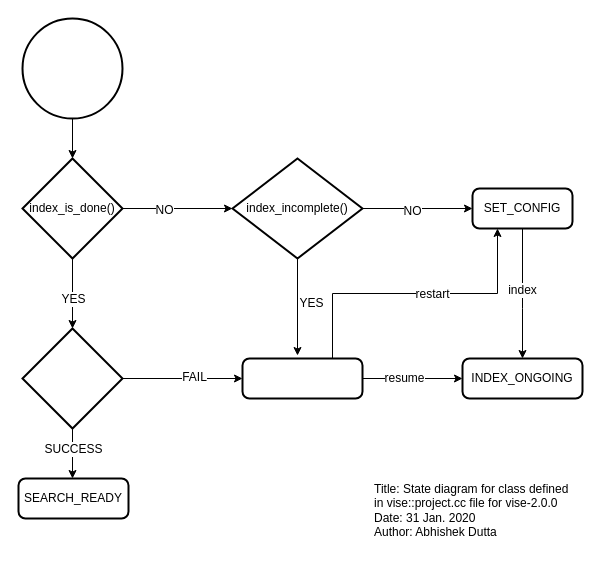
The diagram is 600 pixels wide and 569 high, and some of its shapes have lost their labels. Here are the shapes that lost their labels. From the top down, the box of each, then its label:
(21, 17, 123, 119): Initialize an instance of vise::project
(21, 327, 123, 429): index_load()
(241, 357, 363, 399): BROKEN_INDEX
